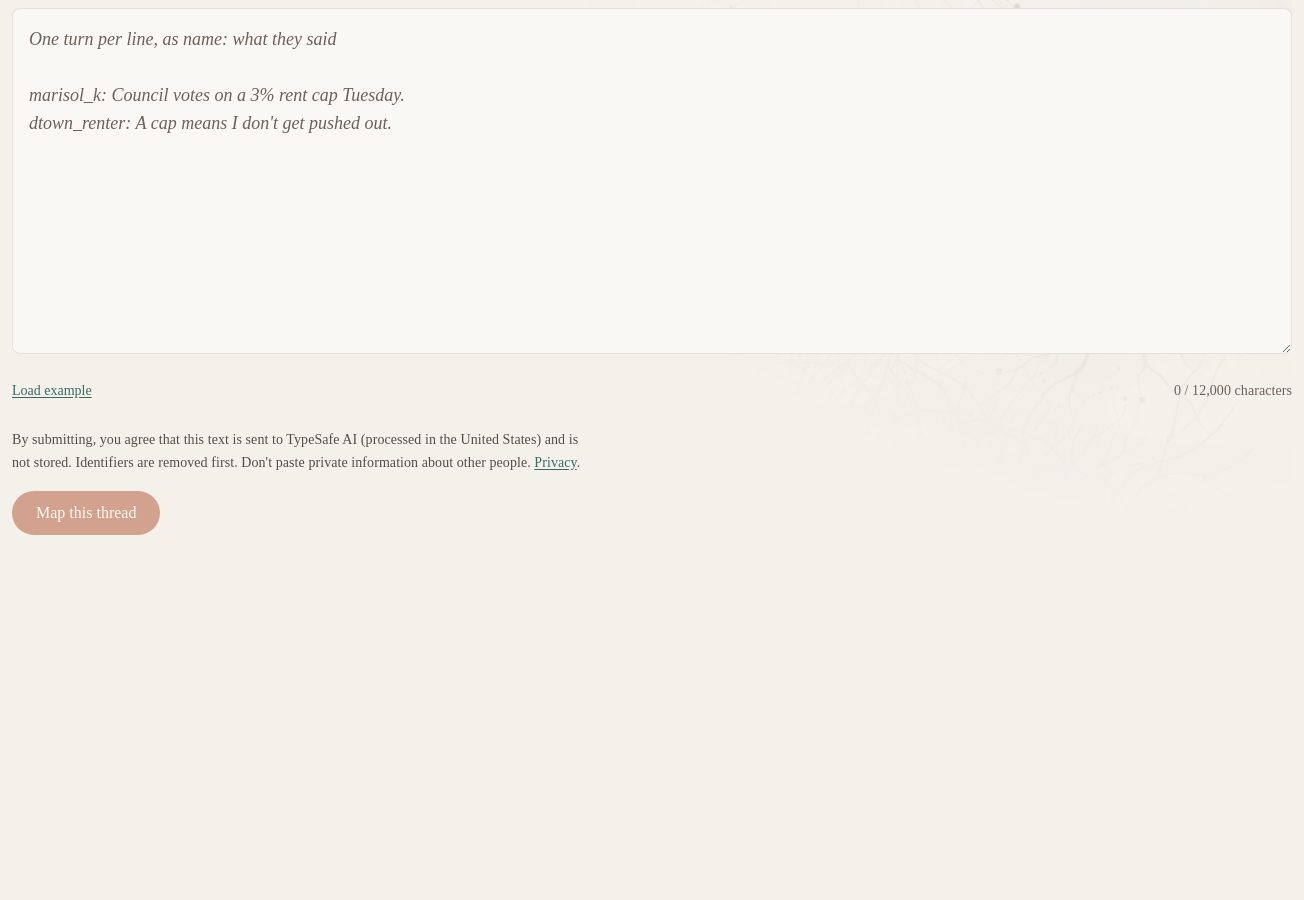
it: MapReplyClient › explains a CONTENT_TOO_LONG response in plain words
Click the button "Load example" at (52, 391), box x1=12 y1=369 x2=92 y2=413
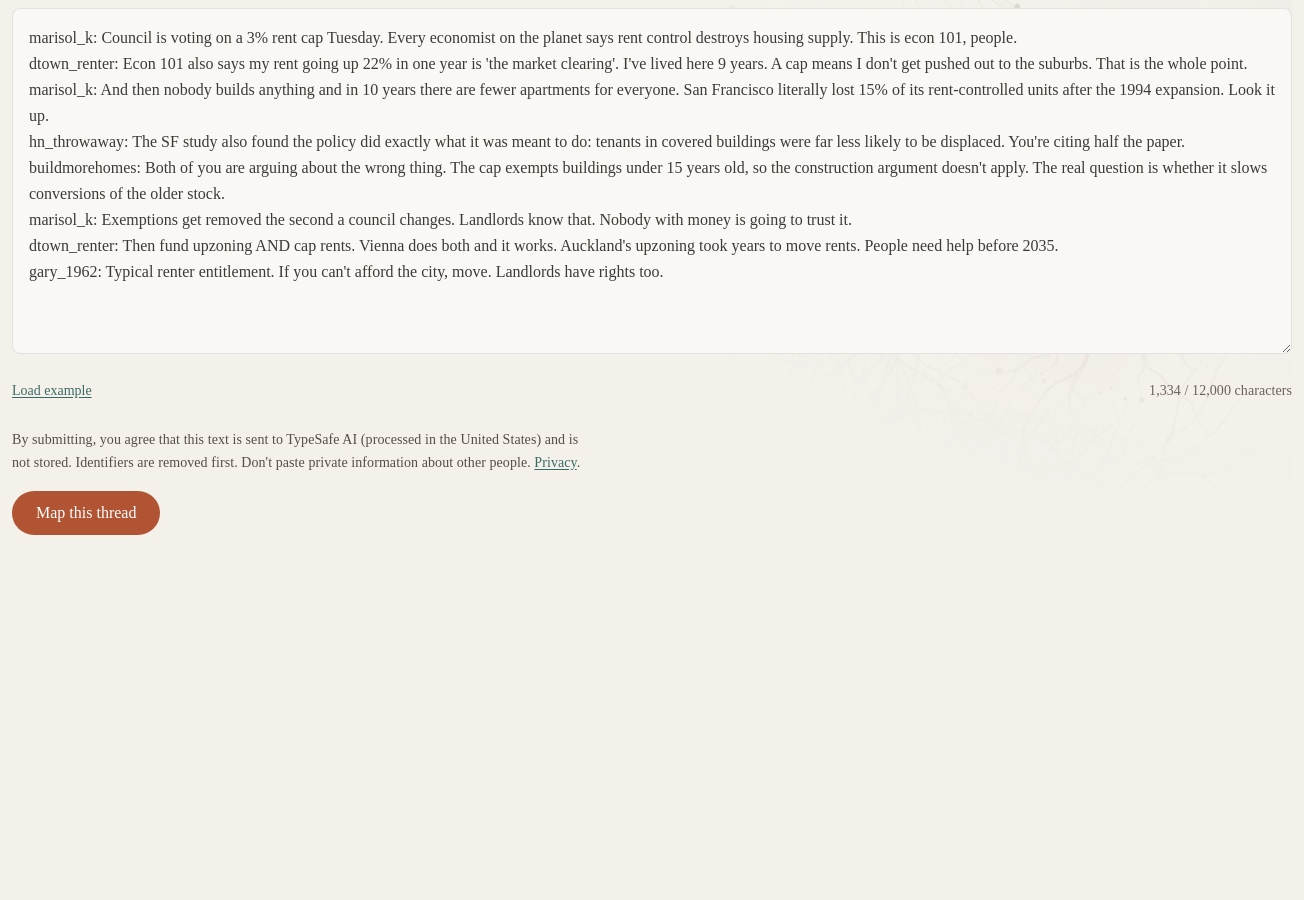
Click the button "Map this thread" at (86, 512), box x1=12 y1=490 x2=160 y2=534
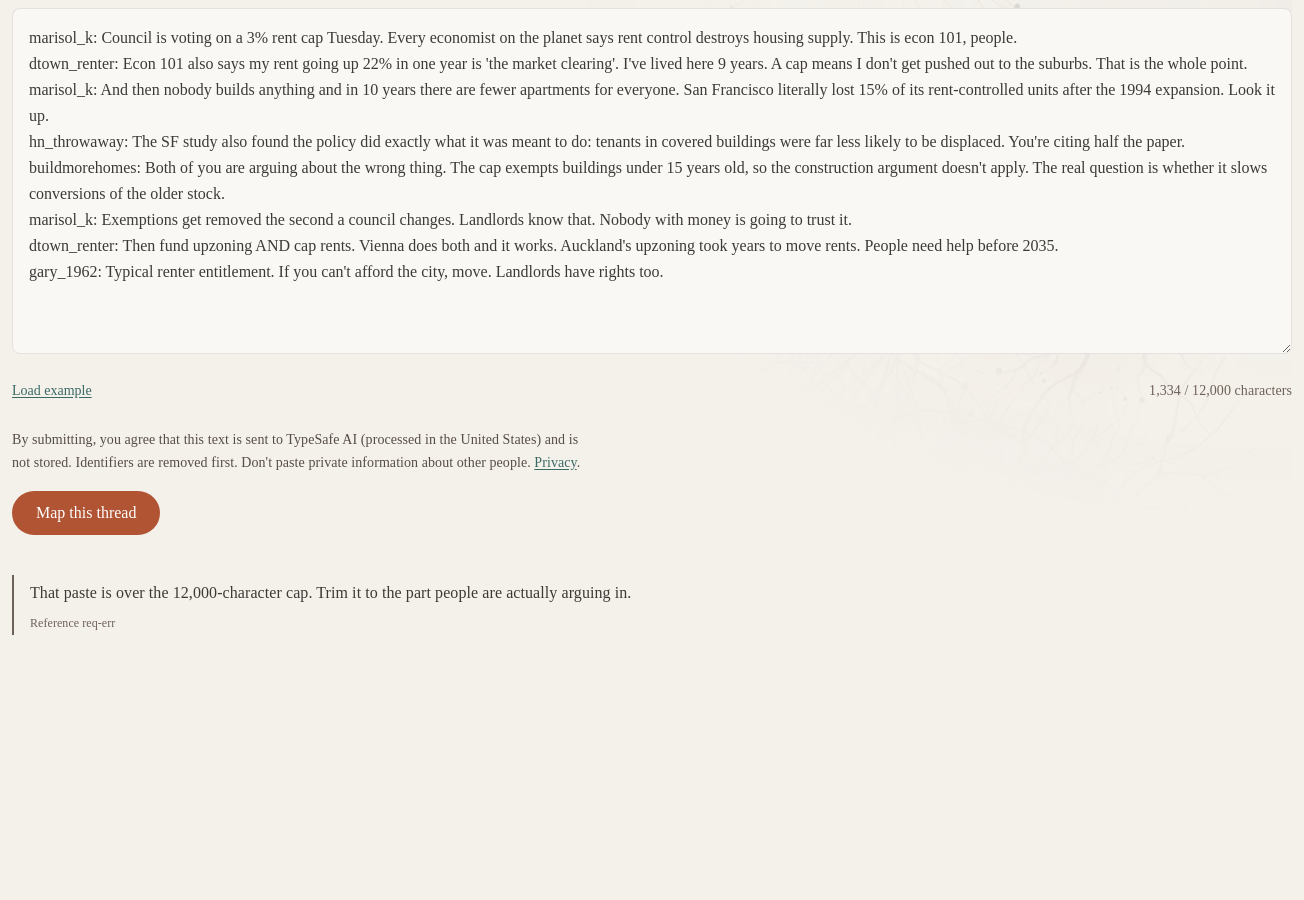
Check: the message shows "over the 12,000-character cap", box x1=30 y1=584 x2=631 y2=600
Check: the text "Reference req-err" is shown, box x1=30 y1=616 x2=115 y2=630
